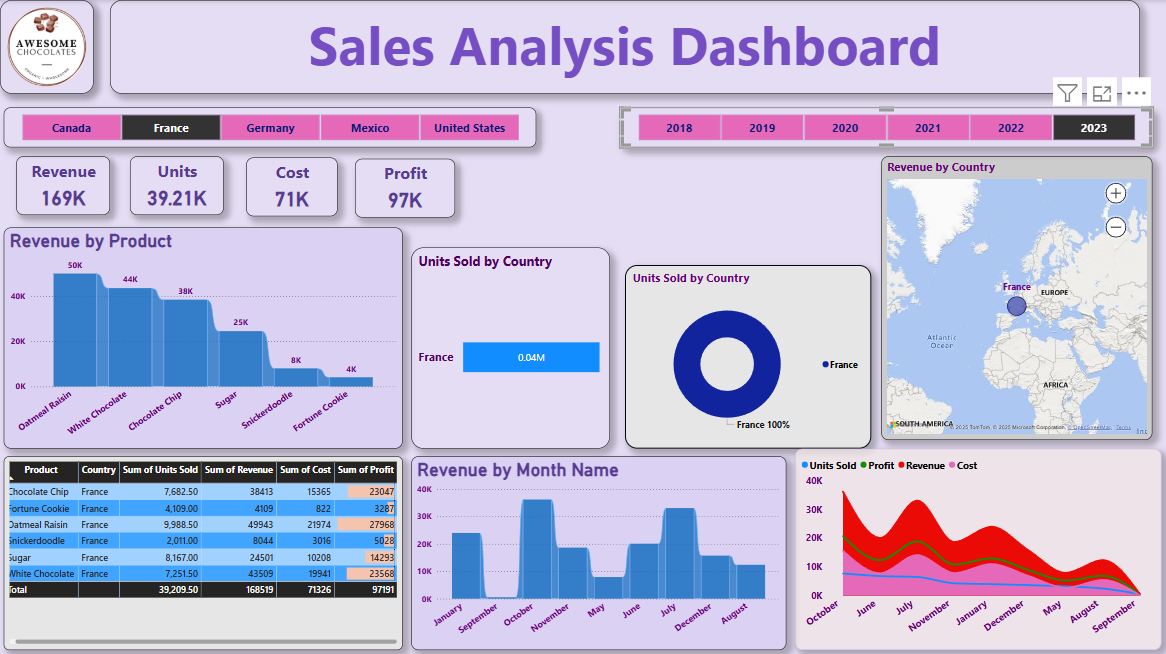

What the dashboard file says about the page in this screenshot:
{"tool":"powerbi","page":{"name":"Sales_DashBoard","canvas":[1920,1080],"ordinal":0},"visuals":[{"type":"image","box":[0,0,154.4,154.4],"z":0},{"type":"textbox","box":[181.1,0,1696.1,154.4],"z":1000},{"type":"card","title":"Revenue","fields":{"Values":["Sum(Sheet1.Revenue)"]},"box":[16.5,257.3,189.4,96.7],"z":2000},{"type":"card","title":"Units","fields":{"Values":["Sum(Sheet1.Units Sold)"]},"box":[236.7,259.3,189.4,96.7],"z":3000},{"type":"card","title":"Profit","fields":{"Values":["Sum(Sheet1.Profit)"]},"box":[689.5,257.3,193.5,96.7],"z":4000},{"type":"card","title":"Cost","fields":{"Values":["Sum(Sheet1.Cost)"]},"box":[459,257.3,193.5,96.7],"z":5000},{"type":"columnChart","title":"Revenue by Product","fields":{"Y":["Sum(Sheet1.Revenue)"],"Category":["Sheet1.Product"]},"box":[16.5,372.6,636,352],"z":6000},{"type":"donutChart","title":"Units Sold by Country","fields":{"Y":["Sum(Sheet1.Units Sold)"],"Category":["Sheet1.Country"]},"box":[666.9,384.9,498.1,331.4],"z":7000},{"type":"map","title":"Revenue by Country","fields":{"Size":["Sum(Sheet1.Revenue)"],"Category":["Sheet1.Country"]},"box":[1473.8,257.3,438.4,467.2],"z":8000},{"type":"lineChart","fields":{"Category":["Sheet1.Month Name"],"Y":["Sum(Sheet1.Units Sold)","Sum(Sheet1.Profit)","Sum(Sheet1.Revenue)","Sum(Sheet1.Cost)"]},"box":[1309.1,738.9,603.1,331.4],"z":9000},{"type":"tableEx","fields":{"Values":["Sheet1.Product","Sheet1.Country","Sum(Sheet1.Units Sold)","Sum(Sheet1.Revenue)","Sum(Sheet1.Cost)","Sum(Sheet1.Profit)"]},"box":[666.9,724.5,636,345.8],"z":10001},{"type":"columnChart","title":"Revenue by Month Name","fields":{"Category":["Sheet1.Month Name"],"Y":["Sum(Sheet1.Revenue)"]},"box":[16.5,738.9,636,331.4],"z":10002},{"type":"slicer","fields":{"Values":["Sheet1.Country"]},"box":[6.2,177,876.8,65.9],"z":10003},{"type":"slicer","fields":{"Values":["Sheet1.Year"]},"box":[1035.3,177,876.8,65.9],"z":10004},{"type":"funnel","title":"Units Sold by Country","fields":{"Y":["Sum(Sheet1.Units Sold)"],"Category":["Sheet1.Country"]},"box":[1181.5,261.4,275.8,454.9],"z":10005}]}

Visuals, with their boxes in screenshot pixels (x1, y1, x2, y2), scaled from the page's 1920x1080 canvas onto the 1166x654 screenshot:
image: {"x1": 0, "y1": 0, "x2": 94, "y2": 93}
textbox: {"x1": 110, "y1": 0, "x2": 1140, "y2": 93}
"Revenue" card: {"x1": 10, "y1": 156, "x2": 125, "y2": 214}
"Units" card: {"x1": 144, "y1": 157, "x2": 259, "y2": 216}
"Profit" card: {"x1": 419, "y1": 156, "x2": 536, "y2": 214}
"Cost" card: {"x1": 279, "y1": 156, "x2": 396, "y2": 214}
"Revenue by Product" columnChart: {"x1": 10, "y1": 226, "x2": 396, "y2": 439}
"Units Sold by Country" donutChart: {"x1": 405, "y1": 233, "x2": 707, "y2": 434}
"Revenue by Country" map: {"x1": 895, "y1": 156, "x2": 1161, "y2": 439}
lineChart - Sheet1.Month Name x Sum(Sheet1.Units Sold): {"x1": 795, "y1": 447, "x2": 1161, "y2": 648}
tableEx - Sheet1.Product x Sheet1.Country: {"x1": 405, "y1": 439, "x2": 791, "y2": 648}
"Revenue by Month Name" columnChart: {"x1": 10, "y1": 447, "x2": 396, "y2": 648}
slicer - Sheet1.Country: {"x1": 4, "y1": 107, "x2": 536, "y2": 147}
slicer - Sheet1.Year: {"x1": 629, "y1": 107, "x2": 1161, "y2": 147}
"Units Sold by Country" funnel: {"x1": 718, "y1": 158, "x2": 885, "y2": 434}
